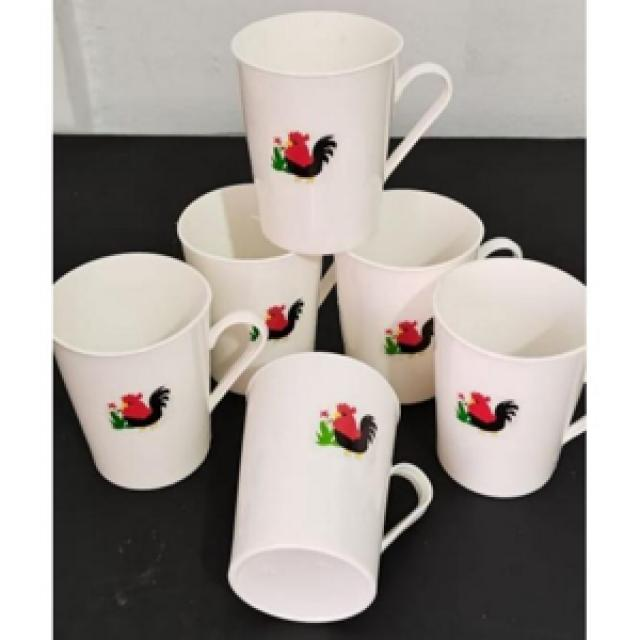plastic cup: (228, 9, 457, 260), (226, 352, 433, 625), (51, 250, 269, 495), (326, 183, 523, 410), (426, 256, 588, 508), (173, 179, 337, 399)
